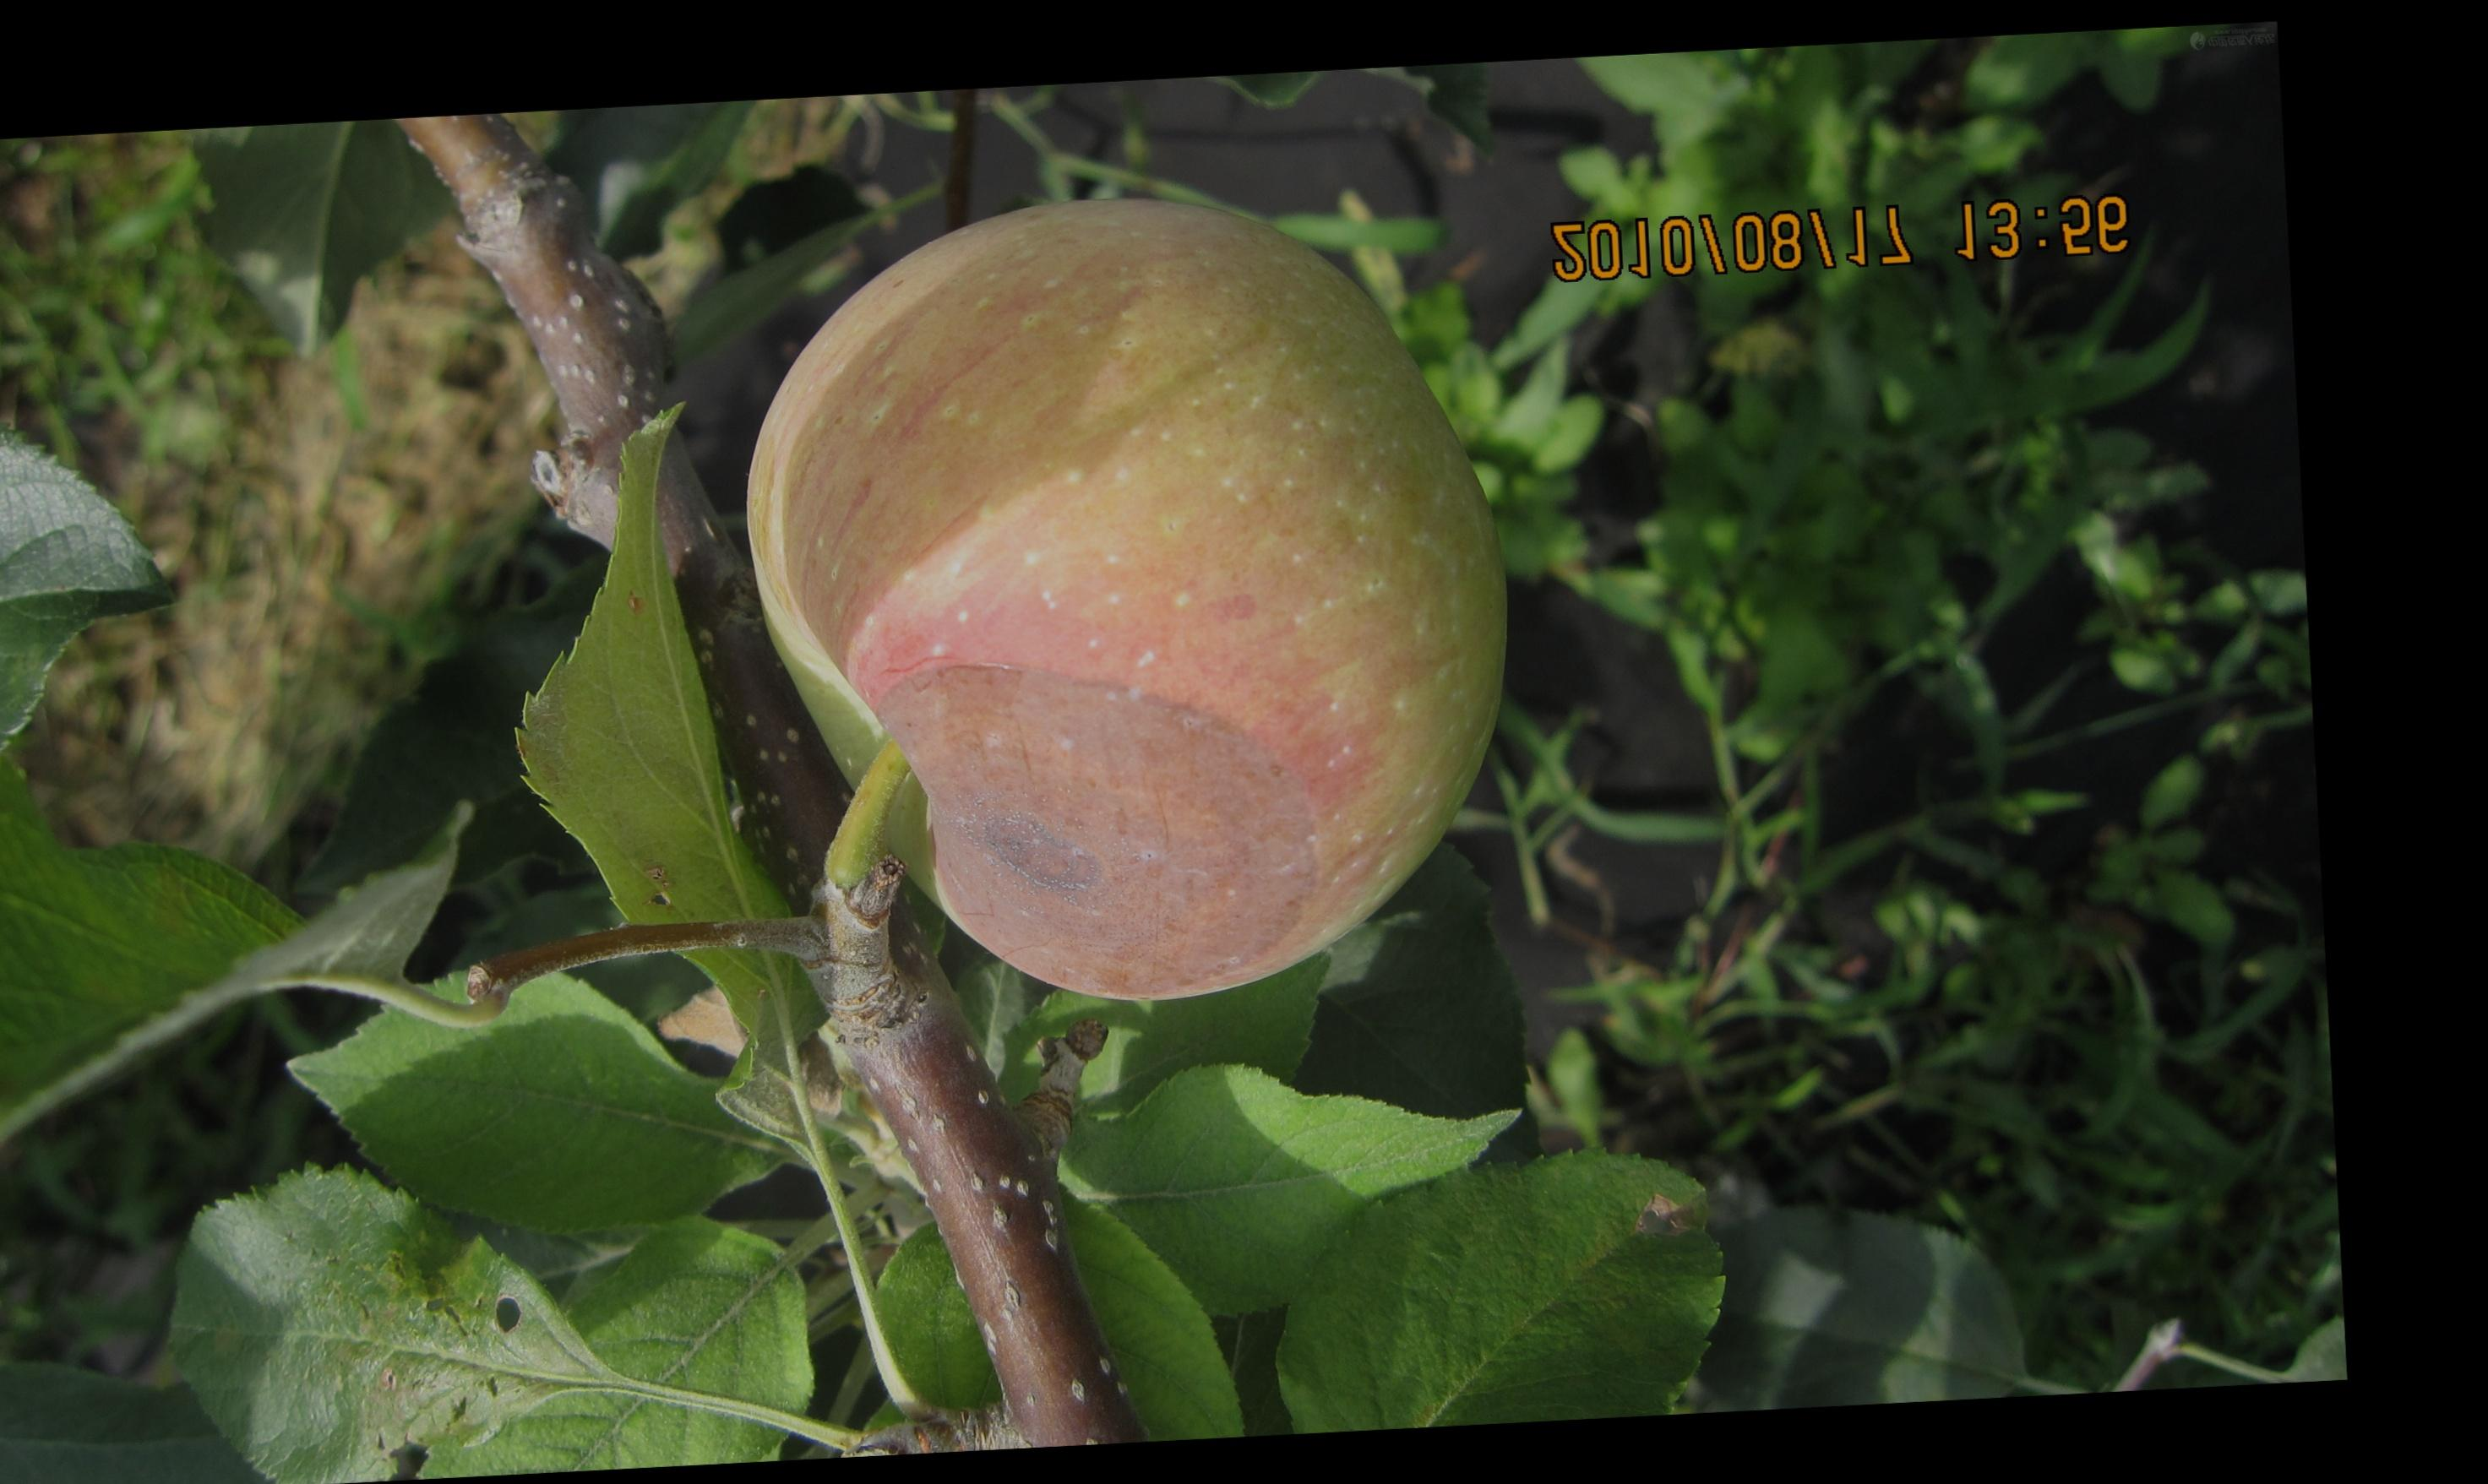rotten apple: (739, 191, 1523, 984)
